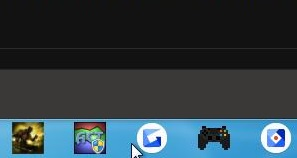cursor: (129, 140, 144, 158)
